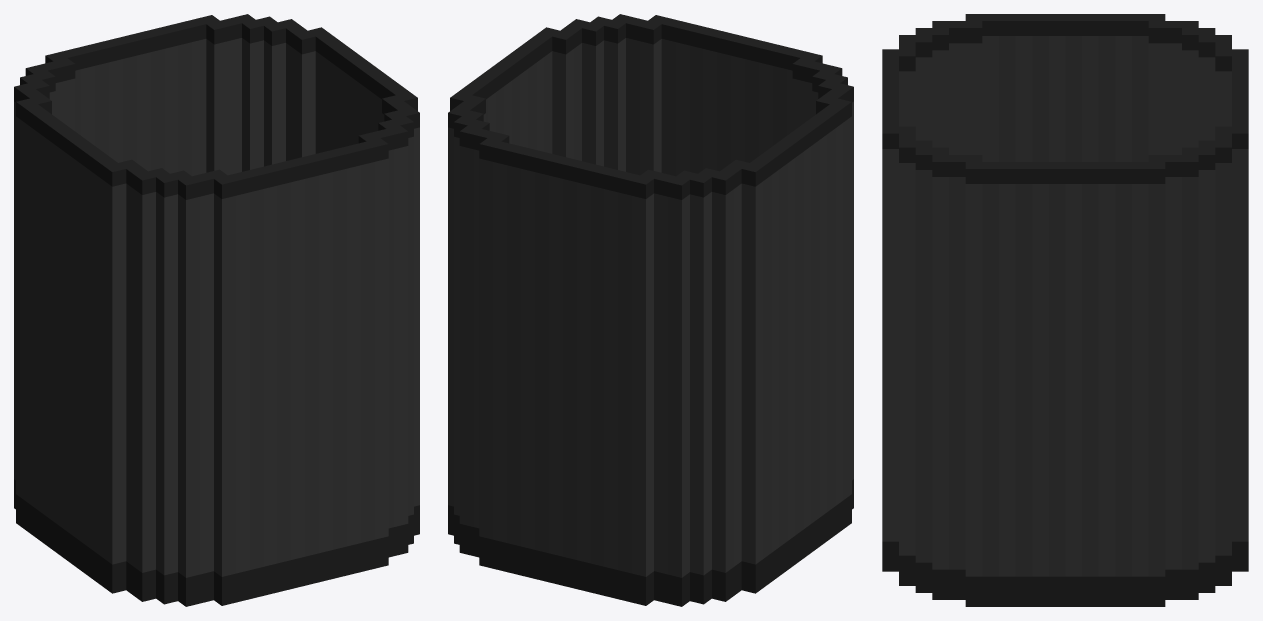
File: mysorka.obj
3 renders of one model, left to right at view 1: azimuth 30°, elevation 25°; view 2: azimuth 150°, elevation 25°; view 3: azimuth 270°, elevation 25°, orthographic. The views are drawn at different scales.
Bounding box in the file's own units: 2.2 × 2.9 × 2.2.
Materials: 1 (1 with a texture image).
